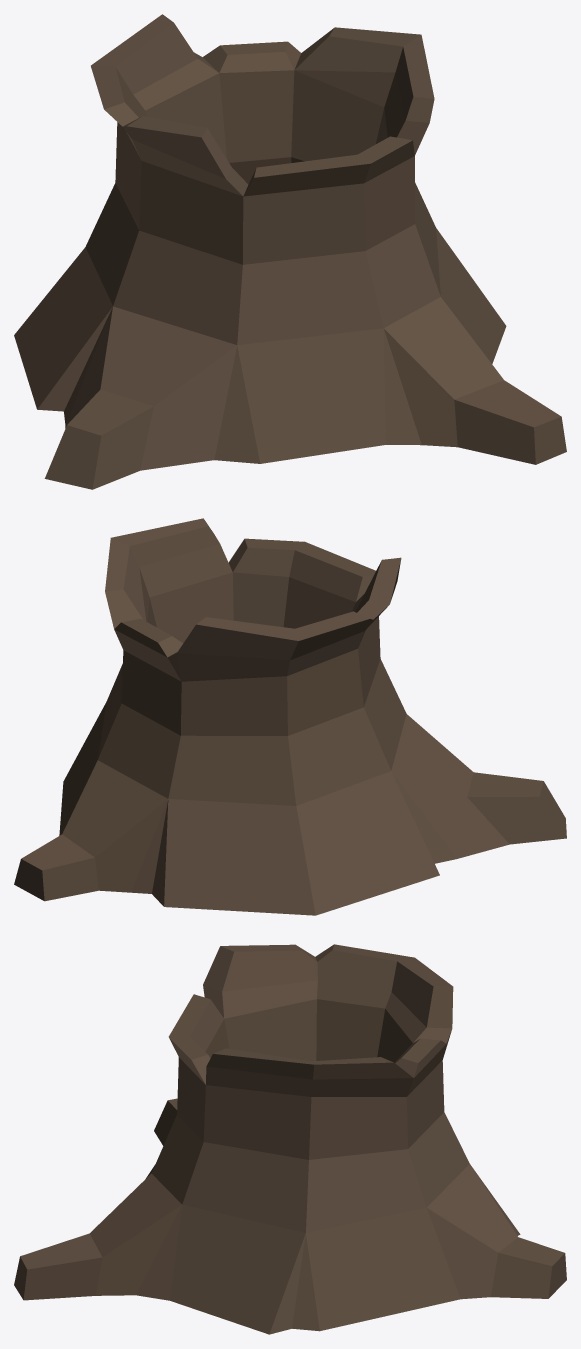
File: LighterTrunk.fbx
The picture shows the model from 3 angles, top to bottom: view 1: azimuth 30°, elevation 25°; view 2: azimuth 150°, elevation 25°; view 3: azimuth 270°, elevation 25°; orthographic projection. The views are drawn at different scales.
Parts seen in each view (by area): view 1: Circle.001; view 2: Circle.001; view 3: Circle.001.
Part boxes in pixels (bbox=[...]): Circle.001: bbox=[14, 14, 566, 489]; Circle.001: bbox=[14, 518, 566, 915]; Circle.001: bbox=[14, 944, 566, 1334].
Size of the model in its own units: 72.52 by 39.96 by 80.15.
